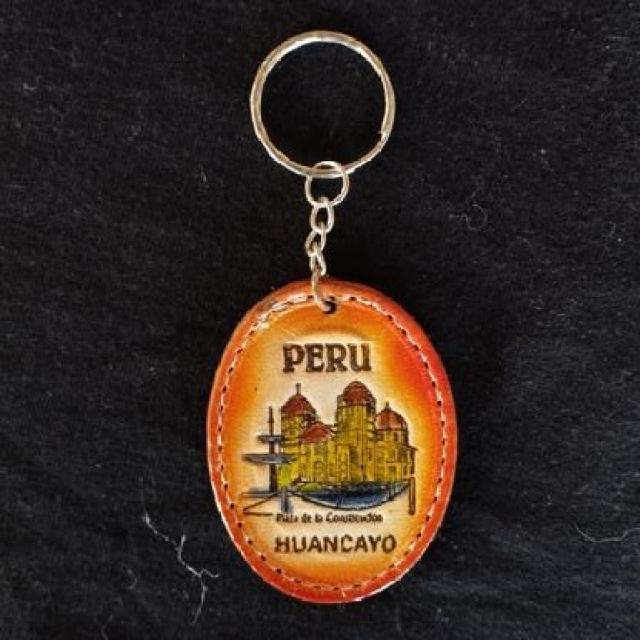Llavero: (204, 276, 459, 604)
